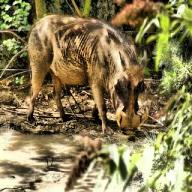boar: (26, 14, 150, 136)
